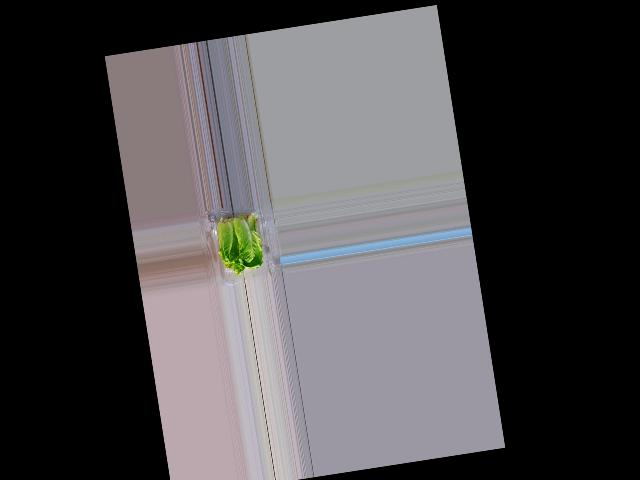lettuce: (214, 214, 265, 277)
